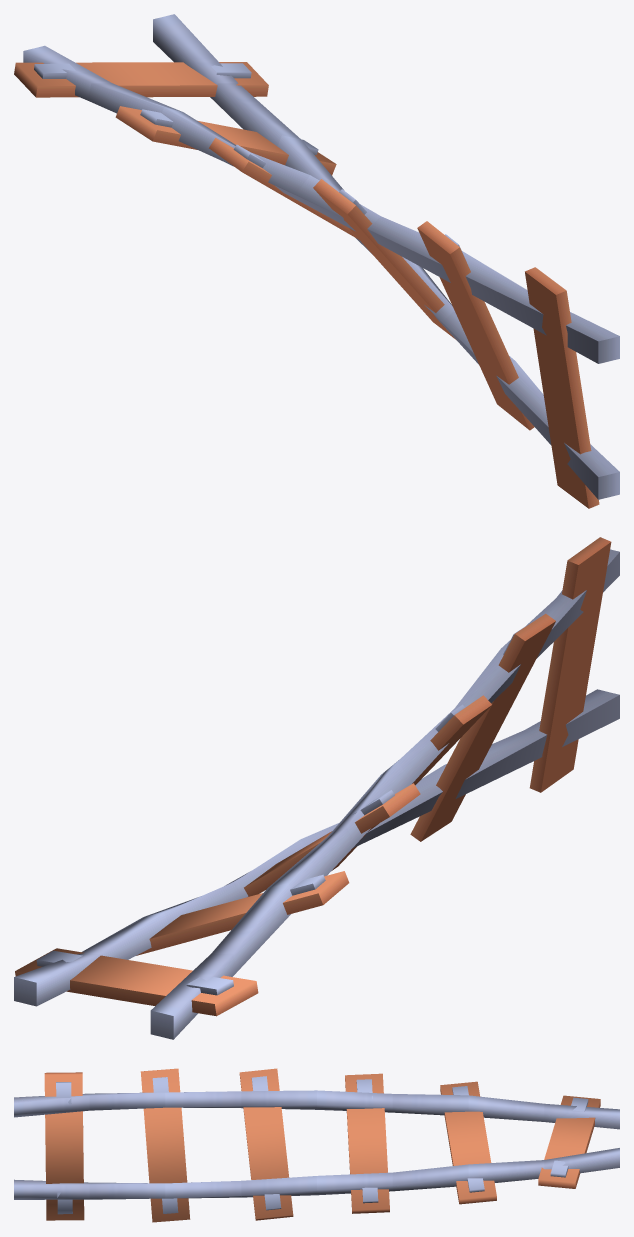
File: kenney-train-railroad-damaged-straight-skew-left-side.glb
The picture shows the model from 3 angles, top to bottom: view 1: azimuth 30°, elevation 25°; view 2: azimuth 150°, elevation 25°; view 3: azimuth 270°, elevation 25°; orthographic projection. The views are drawn at different scales.
Parts seen in each view (by area): view 1: railroad-damaged-straight-skew-left-side; view 2: railroad-damaged-straight-skew-left-side; view 3: railroad-damaged-straight-skew-left-side.
Boxes of the visible parts, bbox=[...] form: railroad-damaged-straight-skew-left-side: bbox=[14, 14, 619, 508]; railroad-damaged-straight-skew-left-side: bbox=[14, 537, 619, 1039]; railroad-damaged-straight-skew-left-side: bbox=[14, 1068, 619, 1222].
Size of the model in its own units: 1.02 by 0.9981 by 4.
Materials: 1 (1 with a texture image).
